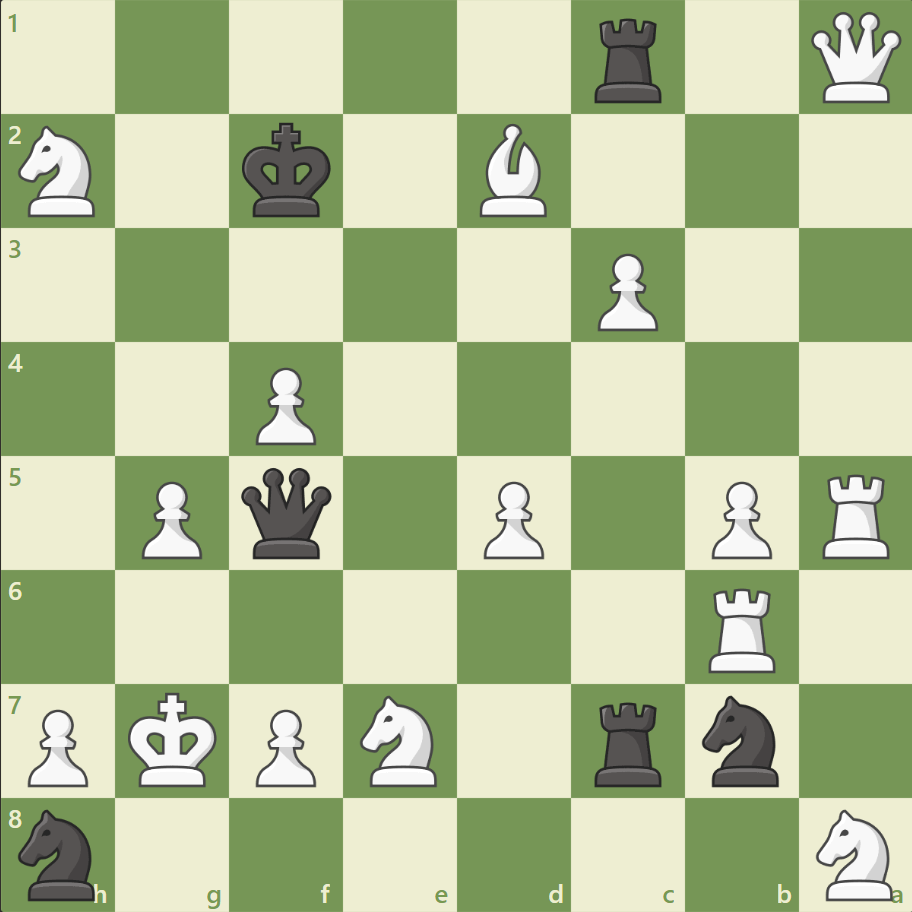B: (471, 120, 555, 222)
K: (124, 685, 224, 793)
N: (351, 688, 449, 791), (806, 802, 903, 904), (11, 121, 108, 223)
P: (247, 700, 322, 791), (20, 700, 95, 791), (701, 473, 776, 564), (474, 473, 549, 564), (133, 473, 208, 564), (247, 359, 322, 450), (588, 246, 662, 337)
Q: (805, 9, 904, 108)
R: (700, 579, 783, 676), (814, 466, 897, 563)
k: (238, 117, 338, 225)
n: (692, 688, 789, 791), (11, 802, 108, 904)
q: (237, 463, 336, 562)
r: (587, 693, 670, 790), (587, 12, 670, 109)
